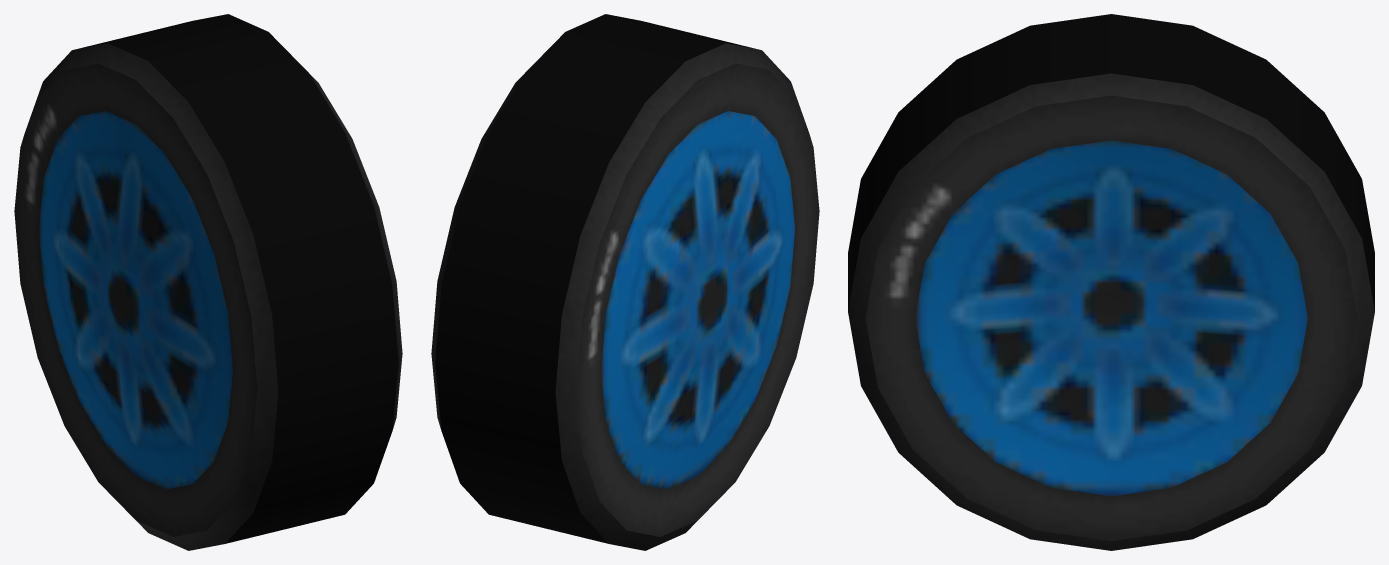
Rendered from ford_escort_rs2000_1971_wheel_rear_left.glb.
3 renders of one model, left to right at view 1: azimuth 30°, elevation 25°; view 2: azimuth 150°, elevation 25°; view 3: azimuth 270°, elevation 25°, orthographic.
Visible parts, largest first — view 1: tire_rl; view 2: tire_rl; view 3: tire_rl.
Boxes of the visible parts, x1,y1,x2,y2 form: tire_rl: (14, 14, 402, 550); tire_rl: (431, 14, 819, 550); tire_rl: (848, 14, 1374, 550).
Size of the model in its own units: 0.2 by 0.56 by 0.56.
Materials: 1 (1 with a texture image).
